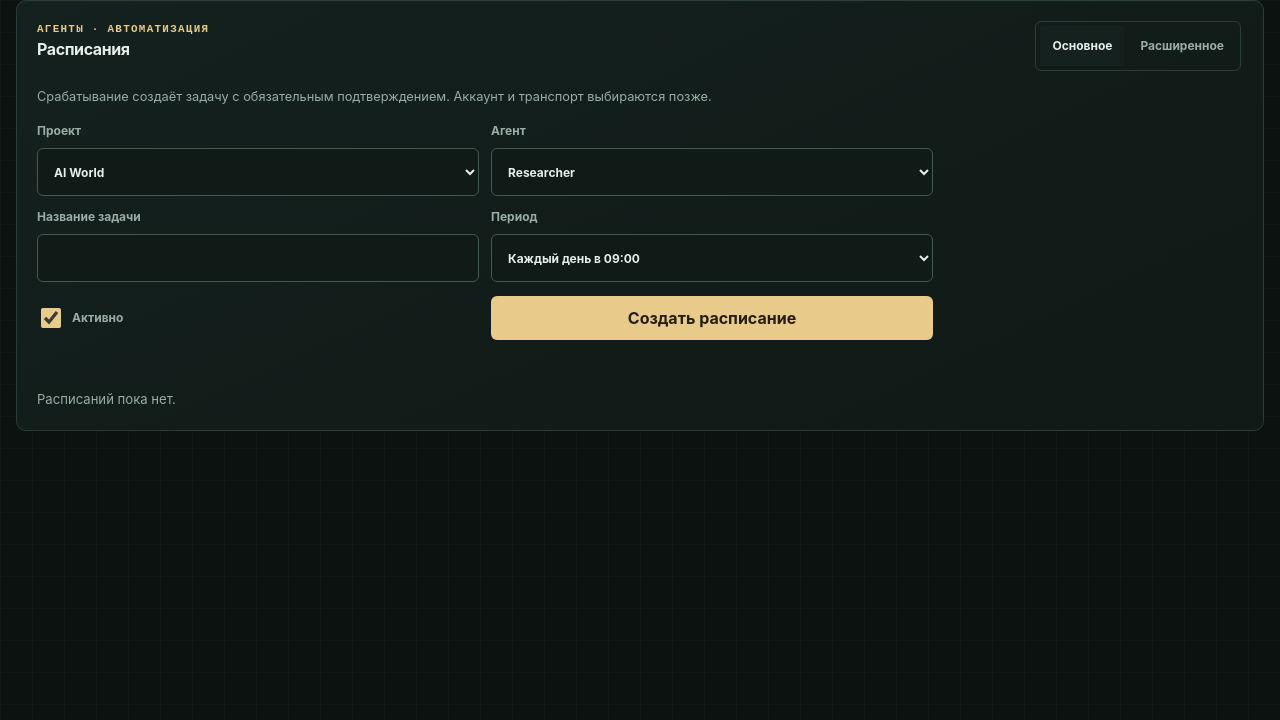
Test case: SchedulePanel › creates a transport-neutral schedule in basic mode and renders it
Expected: the text "Расписаний пока нет." is shown, [37,391,176,407]
Type "Daily audit" into the field labelled "Название задачи" at (258, 258), box [37,234,479,282]
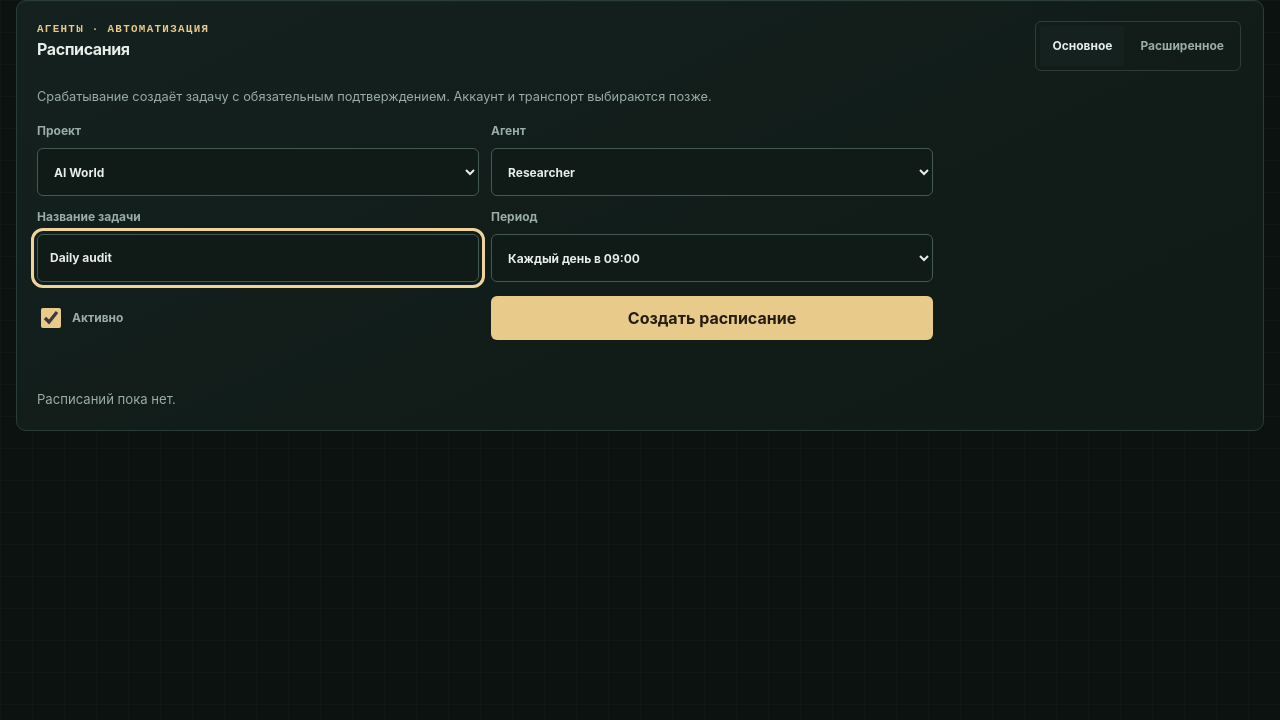
Click the button "Создать расписание" at (712, 318), box [491,296,933,340]
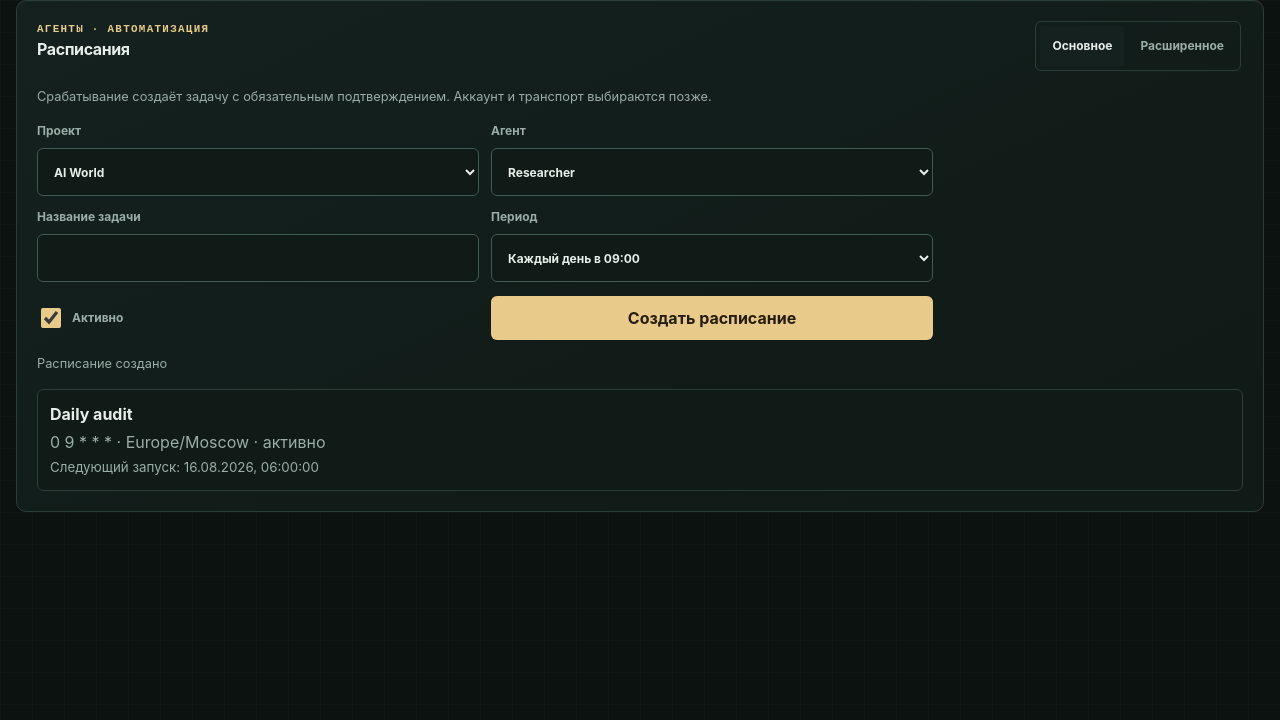
Expected: the text "Расписание создано" is shown, [37,356,167,371]
Expected: the text "0 9 * * * · Europe/Moscow · активно" is shown, [50,432,326,452]
